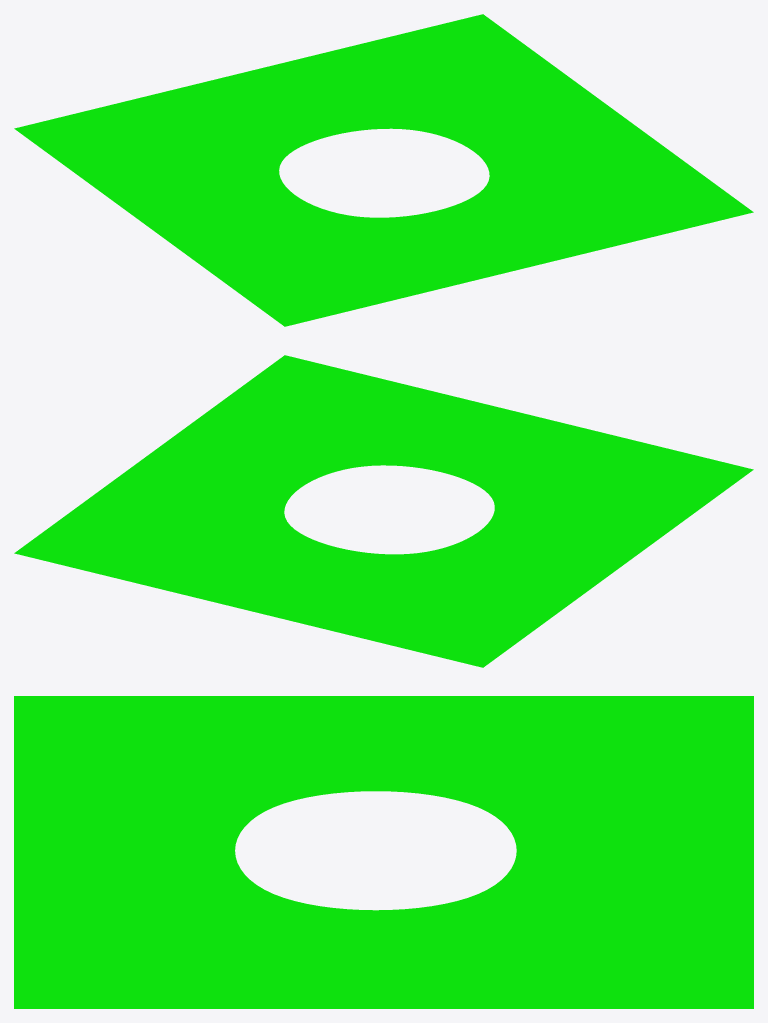
File: greencylinder.fbx
3 renders of one model, top to bottom at view 1: azimuth 30°, elevation 25°; view 2: azimuth 150°, elevation 25°; view 3: azimuth 270°, elevation 25°, orthographic. The views are drawn at different scales.
Parts seen in each view (by area): view 1: Plane, Plane.001; view 2: Plane, Plane.001; view 3: Plane, Plane.001.
Boxes of the visible parts, x1,y1,x2,y2 form: Plane: (131,66,637,280); Plane.001: (14,14,753,326); Plane: (136,402,642,616); Plane.001: (14,355,753,667); Plane: (36,707,714,993); Plane.001: (14,696,753,1008).
Size of the model in its own units: 400 by 0.0276 by 400.
